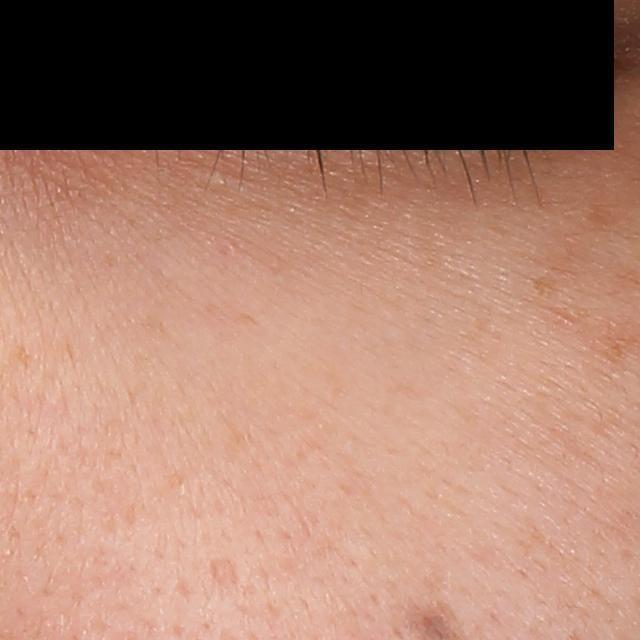atrophic_scar: (208, 557, 241, 588)
melasma: (530, 276, 560, 299)
